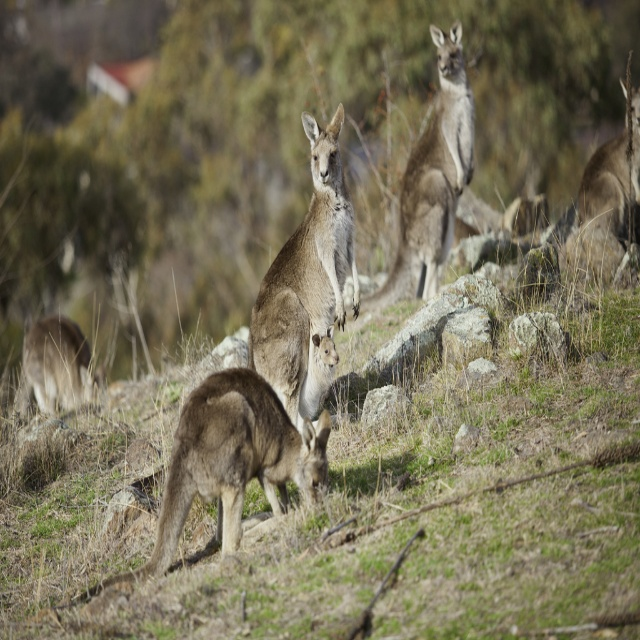Kangaroo: (16, 18, 640, 609)
